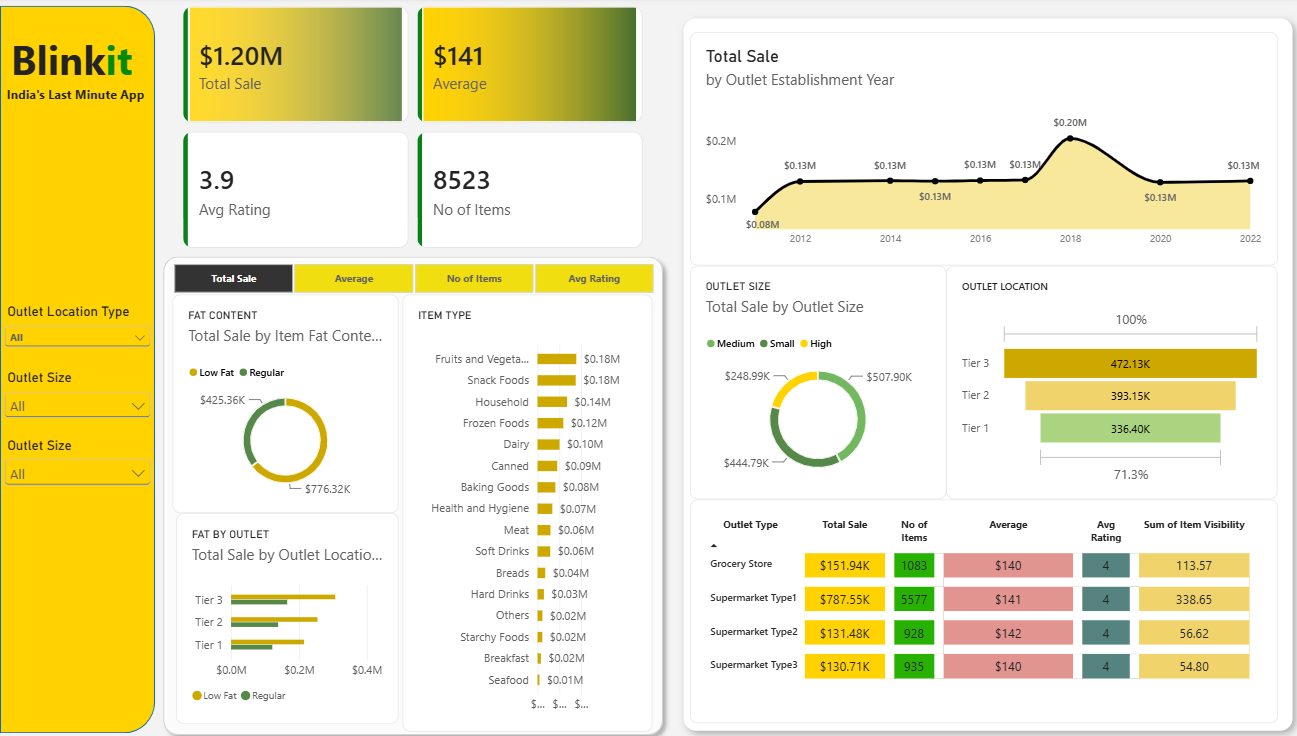

What the dashboard file says about the page in this screenshot:
{"tool":"powerbi","page":{"name":"Page 1","canvas":[1400,800],"ordinal":0},"visuals":[{"type":"shape","box":[0,9.4,166.2,780.2],"z":0},{"type":"textbox","box":[0,37.5,166.2,202.4],"z":1000},{"type":"cardVisual","fields":{"Data":["BlinkIT Grocery Data.Total Sale","BlinkIT Grocery Data.Average","BlinkIT Grocery Data.Avg Rating","BlinkIT Grocery Data.Number of Items"]},"box":[195.7,9.4,494.6,260.1],"z":2000},{"type":"shape","box":[166.2,269.4,553.6,530.8],"z":3000},{"type":"donutChart","title":"FAT CONTENT","fields":{"Y":["BlinkIT Grocery Data.Total Sale"],"Category":["BlinkIT Grocery Data.Item Fat Content"]},"box":[185,319,242.6,234.6],"z":4000},{"type":"slicer","fields":{"Values":["Metrics.Metrics"]},"box":[166.2,284.2,553.6,34.9],"z":5000},{"type":"clusteredBarChart","title":"FAT BY OUTLET","fields":{"Y":["BlinkIT Grocery Data.Total Sale"],"Category":["BlinkIT Grocery Data.Outlet Location Type"],"Series":["BlinkIT Grocery Data.Item Fat Content"]},"box":[189,553.6,238.6,225.2],"z":6000},{"type":"barChart","title":"ITEM TYPE","fields":{"Y":["BlinkIT Grocery Data.Total Sale"],"Category":["BlinkIT Grocery Data.Item Type"]},"box":[431.6,319,268.1,469.2],"z":7000},{"type":"shape","box":[719.8,9.4,679.6,790.9],"z":8000},{"type":"lineChart","fields":{"Y":["BlinkIT Grocery Data.Total Sale"],"Category":["BlinkIT Grocery Data.Outlet Establishment Year"]},"box":[740,37.5,630,250.7],"z":9000},{"type":"donutChart","title":"OUTLET SIZE","fields":{"Y":["BlinkIT Grocery Data.Total Sale"],"Category":["BlinkIT Grocery Data.Outlet Size"]},"box":[740,288.2,274.8,250.7],"z":10000},{"type":"funnel","title":"OUTLET LOCATION","fields":{"Y":["Sum(BlinkIT Grocery Data.Sales)"],"Category":["BlinkIT Grocery Data.Outlet Location Type"]},"box":[1014.8,288.2,355.2,250.7],"z":11000},{"type":"pivotTable","fields":{"Rows":["BlinkIT Grocery Data.Outlet Type"],"Values":["BlinkIT Grocery Data.Total Sale","BlinkIT Grocery Data.Number of Items","BlinkIT Grocery Data.Average","BlinkIT Grocery Data.Avg Rating","Sum(BlinkIT Grocery Data.Item Visibility)"]},"box":[740,538.9,630,239.9],"z":12000},{"type":"slicer","fields":{"Values":["BlinkIT Grocery Data.Outlet Location Type"]},"box":[0,328.4,166.2,59],"z":13000},{"type":"slicer","fields":{"Values":["BlinkIT Grocery Data.Outlet Size"]},"box":[0,399.5,166.2,76.4],"z":14000},{"type":"slicer","fields":{"Values":["BlinkIT Grocery Data.Outlet Size"]},"box":[0,471.9,166.2,67],"z":15000}]}

Visuals, with their boxes in screenshot pixels (x1, y1, x2, y2), scaled from the page's 1400x800 canvas onto the 1297x736 screenshot:
shape: 0:9:154:726
textbox: 0:34:154:221
cardVisual - BlinkIT Grocery Data.Total Sale x BlinkIT Grocery Data.Average: 181:9:640:248
shape: 154:248:667:735
"FAT CONTENT" donutChart: 171:293:396:509
slicer - Metrics.Metrics: 154:261:667:294
"FAT BY OUTLET" clusteredBarChart: 175:509:396:716
"ITEM TYPE" barChart: 400:293:648:725
shape: 667:9:1296:735
lineChart - BlinkIT Grocery Data.Total Sale x BlinkIT Grocery Data.Outlet Establishment Year: 686:34:1269:265
"OUTLET SIZE" donutChart: 686:265:940:496
"OUTLET LOCATION" funnel: 940:265:1269:496
pivotTable - BlinkIT Grocery Data.Outlet Type x BlinkIT Grocery Data.Total Sale: 686:496:1269:716
slicer - BlinkIT Grocery Data.Outlet Location Type: 0:302:154:356
slicer - BlinkIT Grocery Data.Outlet Size: 0:368:154:438
slicer - BlinkIT Grocery Data.Outlet Size: 0:434:154:496
